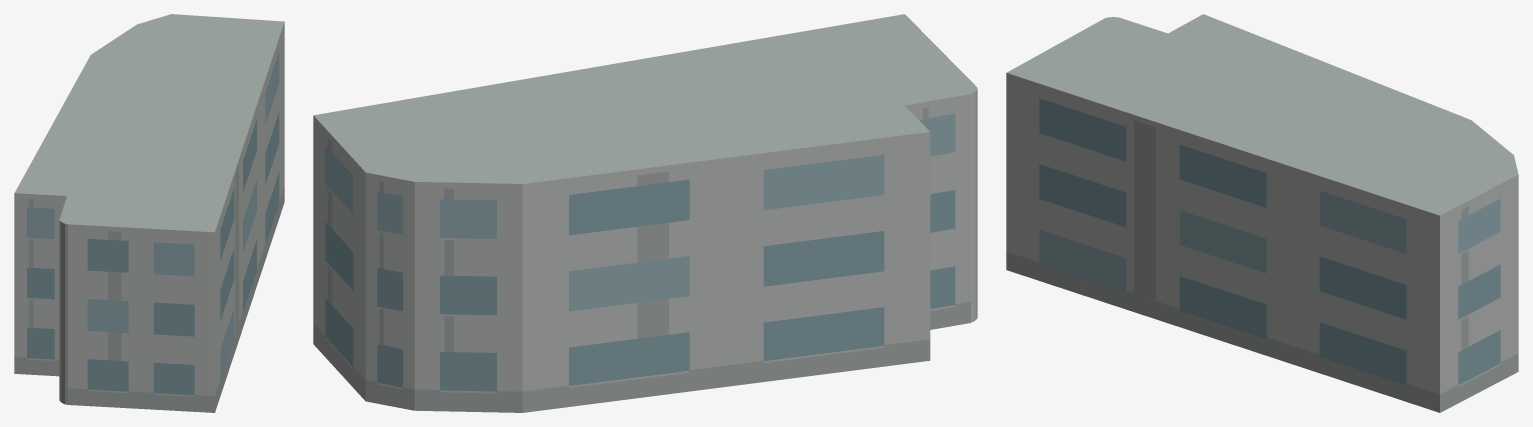
The model's file is survey-upis-32744365.glb.
3 views of the same model, side by side, from view 1: azimuth 30°, elevation 25°; view 2: azimuth 150°, elevation 25°; view 3: azimuth 270°, elevation 25° (orthographic). The views are drawn at different scales.
Visible parts, largest first — view 1: survey-upis-32744365.tmp; view 2: survey-upis-32744365.tmp; view 3: survey-upis-32744365.tmp.
Boxes of the visible parts, x1=… form: survey-upis-32744365.tmp: x1=14, y1=14, x2=284, y2=412; survey-upis-32744365.tmp: x1=313, y1=14, x2=977, y2=412; survey-upis-32744365.tmp: x1=1006, y1=14, x2=1518, y2=412.
Size of the model in its own units: 20.08 by 9.15 by 21.55.
